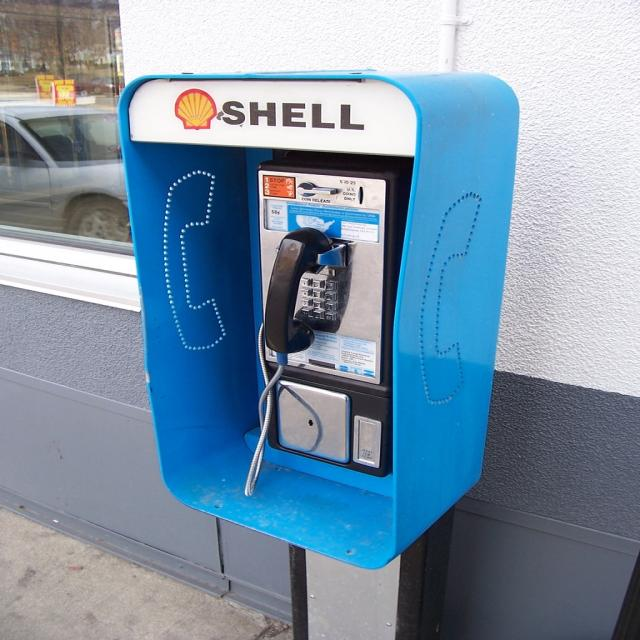shell: (175, 90, 217, 130)
